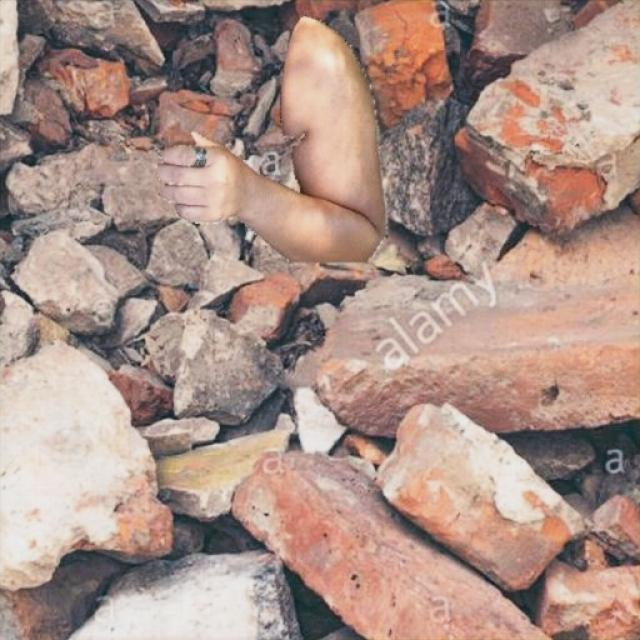Person in Rubble: (158, 15, 386, 261)
